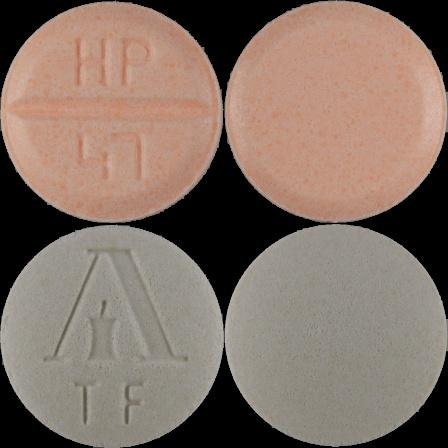51655-126: (0, 0, 224, 224)
